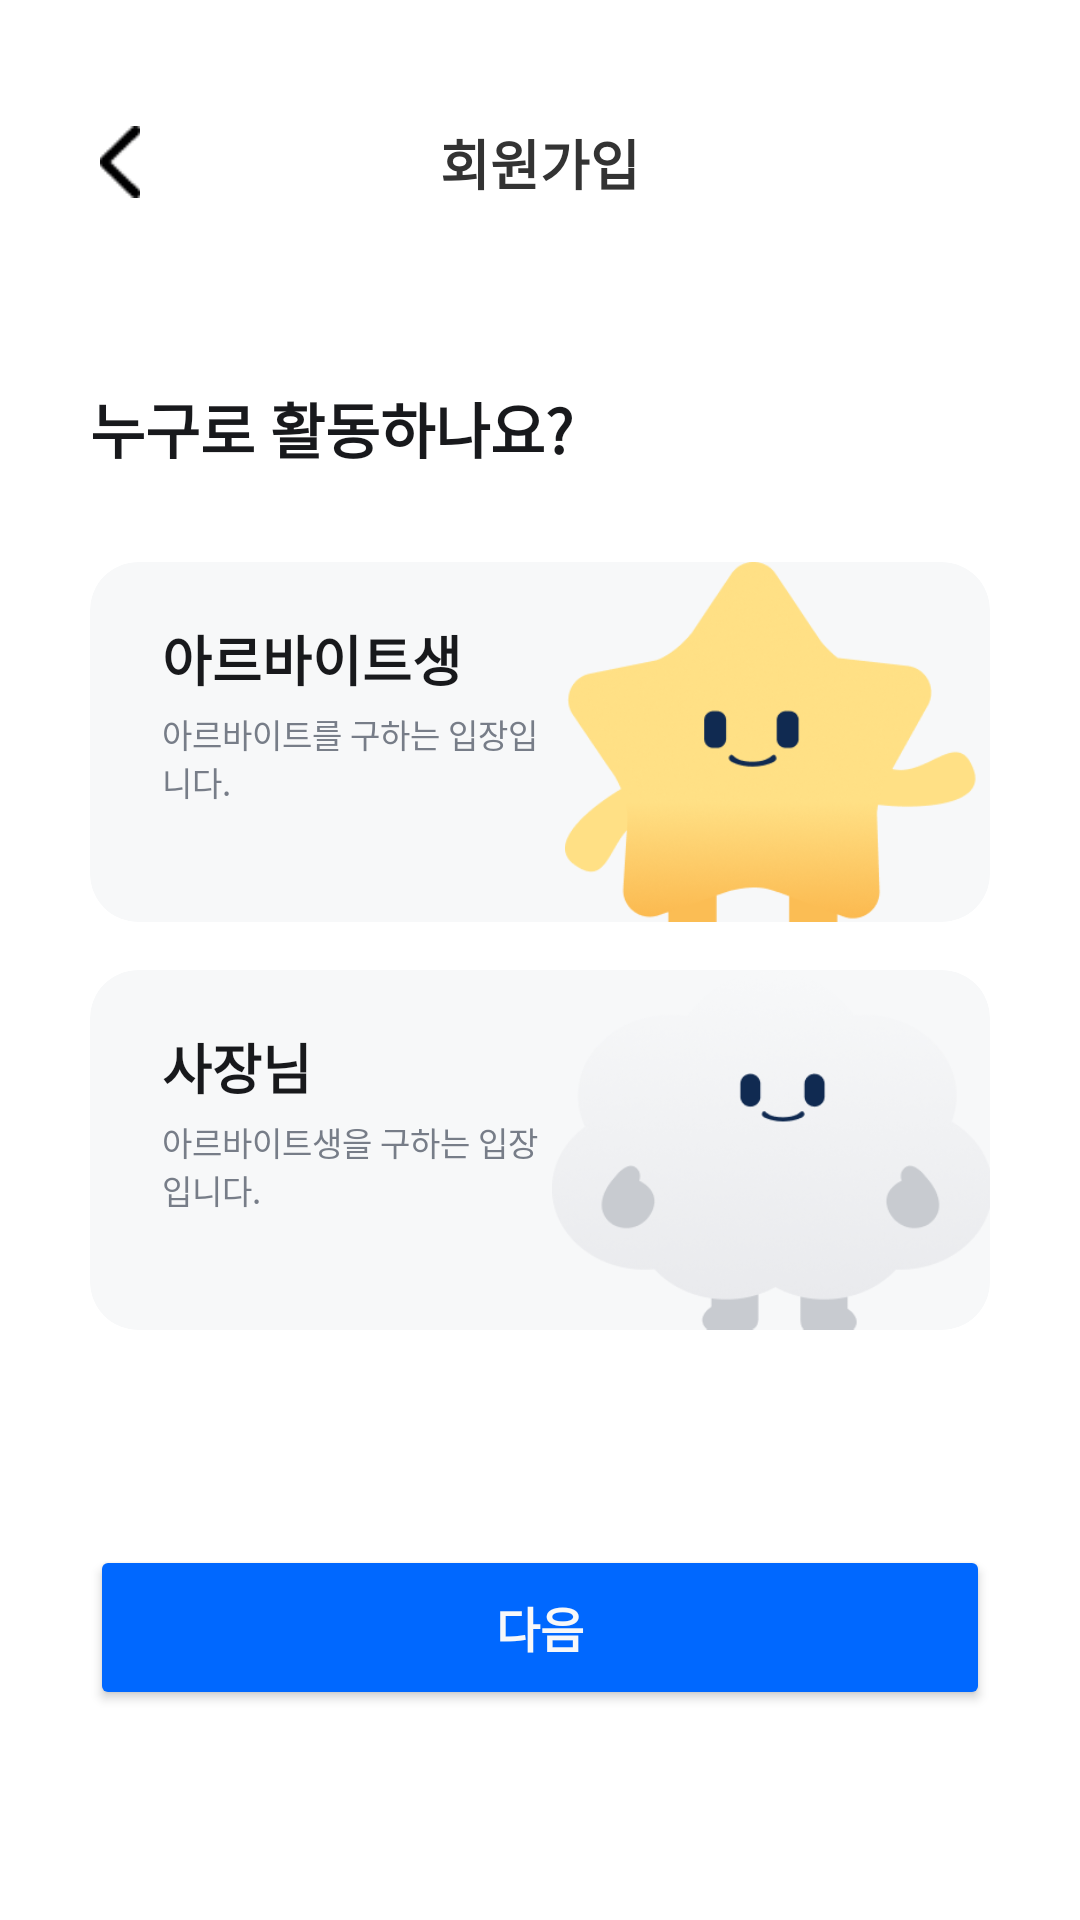

Screen size 1080px x 1920px. Icon name, then its center in pixels as point (x, y):
뒤로가기: point (120, 162)
